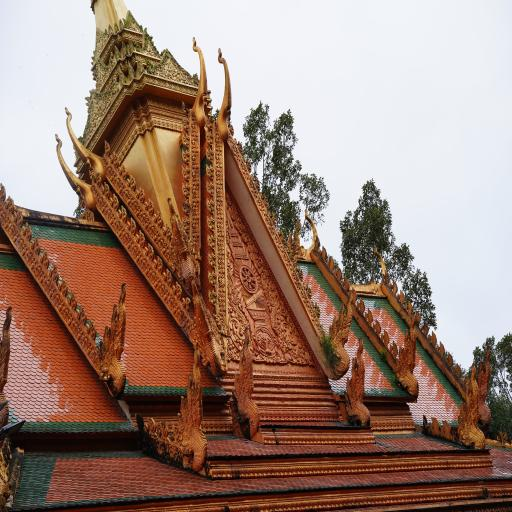lua: (60, 101, 111, 186), (51, 132, 97, 212), (185, 32, 214, 130), (211, 44, 236, 146), (370, 238, 395, 300), (299, 208, 324, 262), (177, 160, 192, 181), (371, 314, 384, 337), (75, 302, 87, 326), (5, 194, 18, 216), (124, 216, 138, 236), (108, 192, 119, 214), (117, 202, 128, 224), (153, 254, 164, 276), (206, 210, 217, 232), (86, 316, 98, 336), (134, 227, 146, 247), (143, 242, 155, 262), (180, 96, 192, 116), (233, 133, 243, 157), (309, 297, 320, 318), (364, 304, 374, 327), (29, 235, 41, 254), (124, 172, 136, 191), (180, 181, 192, 200), (205, 250, 217, 269), (21, 220, 32, 240), (49, 262, 59, 284), (57, 276, 68, 296), (66, 288, 76, 310), (204, 145, 215, 165), (206, 228, 216, 250), (268, 207, 278, 229), (181, 294, 193, 312), (202, 112, 214, 130), (242, 152, 252, 173), (340, 272, 350, 293), (379, 325, 389, 346), (144, 195, 155, 214), (180, 131, 191, 150), (88, 168, 101, 184), (108, 151, 120, 168), (170, 278, 180, 298), (180, 114, 190, 134), (205, 161, 215, 181), (207, 288, 218, 306), (355, 292, 364, 314), (180, 148, 192, 164), (350, 282, 358, 306), (14, 209, 24, 228), (40, 249, 50, 268), (162, 266, 172, 285), (206, 268, 216, 287), (179, 215, 190, 232), (179, 196, 190, 213), (251, 171, 259, 194), (162, 221, 172, 239), (205, 128, 214, 148), (151, 211, 162, 227), (334, 262, 342, 284), (327, 251, 334, 276), (206, 195, 215, 214), (287, 245, 296, 264), (117, 161, 127, 178), (0, 182, 7, 206), (320, 240, 327, 264), (103, 139, 111, 159), (102, 180, 110, 200), (206, 180, 216, 196), (296, 263, 303, 284), (136, 186, 144, 204), (260, 188, 266, 210), (314, 230, 320, 252), (304, 282, 312, 298), (278, 226, 284, 245), (227, 120, 234, 136)
ran: (144, 329, 212, 486), (164, 194, 218, 324), (0, 304, 31, 509), (90, 281, 134, 396), (226, 322, 268, 441), (338, 335, 376, 430), (451, 366, 488, 453), (392, 309, 422, 409), (326, 288, 356, 384), (474, 341, 496, 431), (285, 214, 302, 270), (124, 62, 138, 82), (134, 56, 145, 78), (118, 67, 128, 90), (126, 36, 135, 56), (120, 39, 128, 58), (113, 44, 121, 62), (107, 23, 114, 38), (118, 18, 124, 33), (113, 21, 119, 35)
